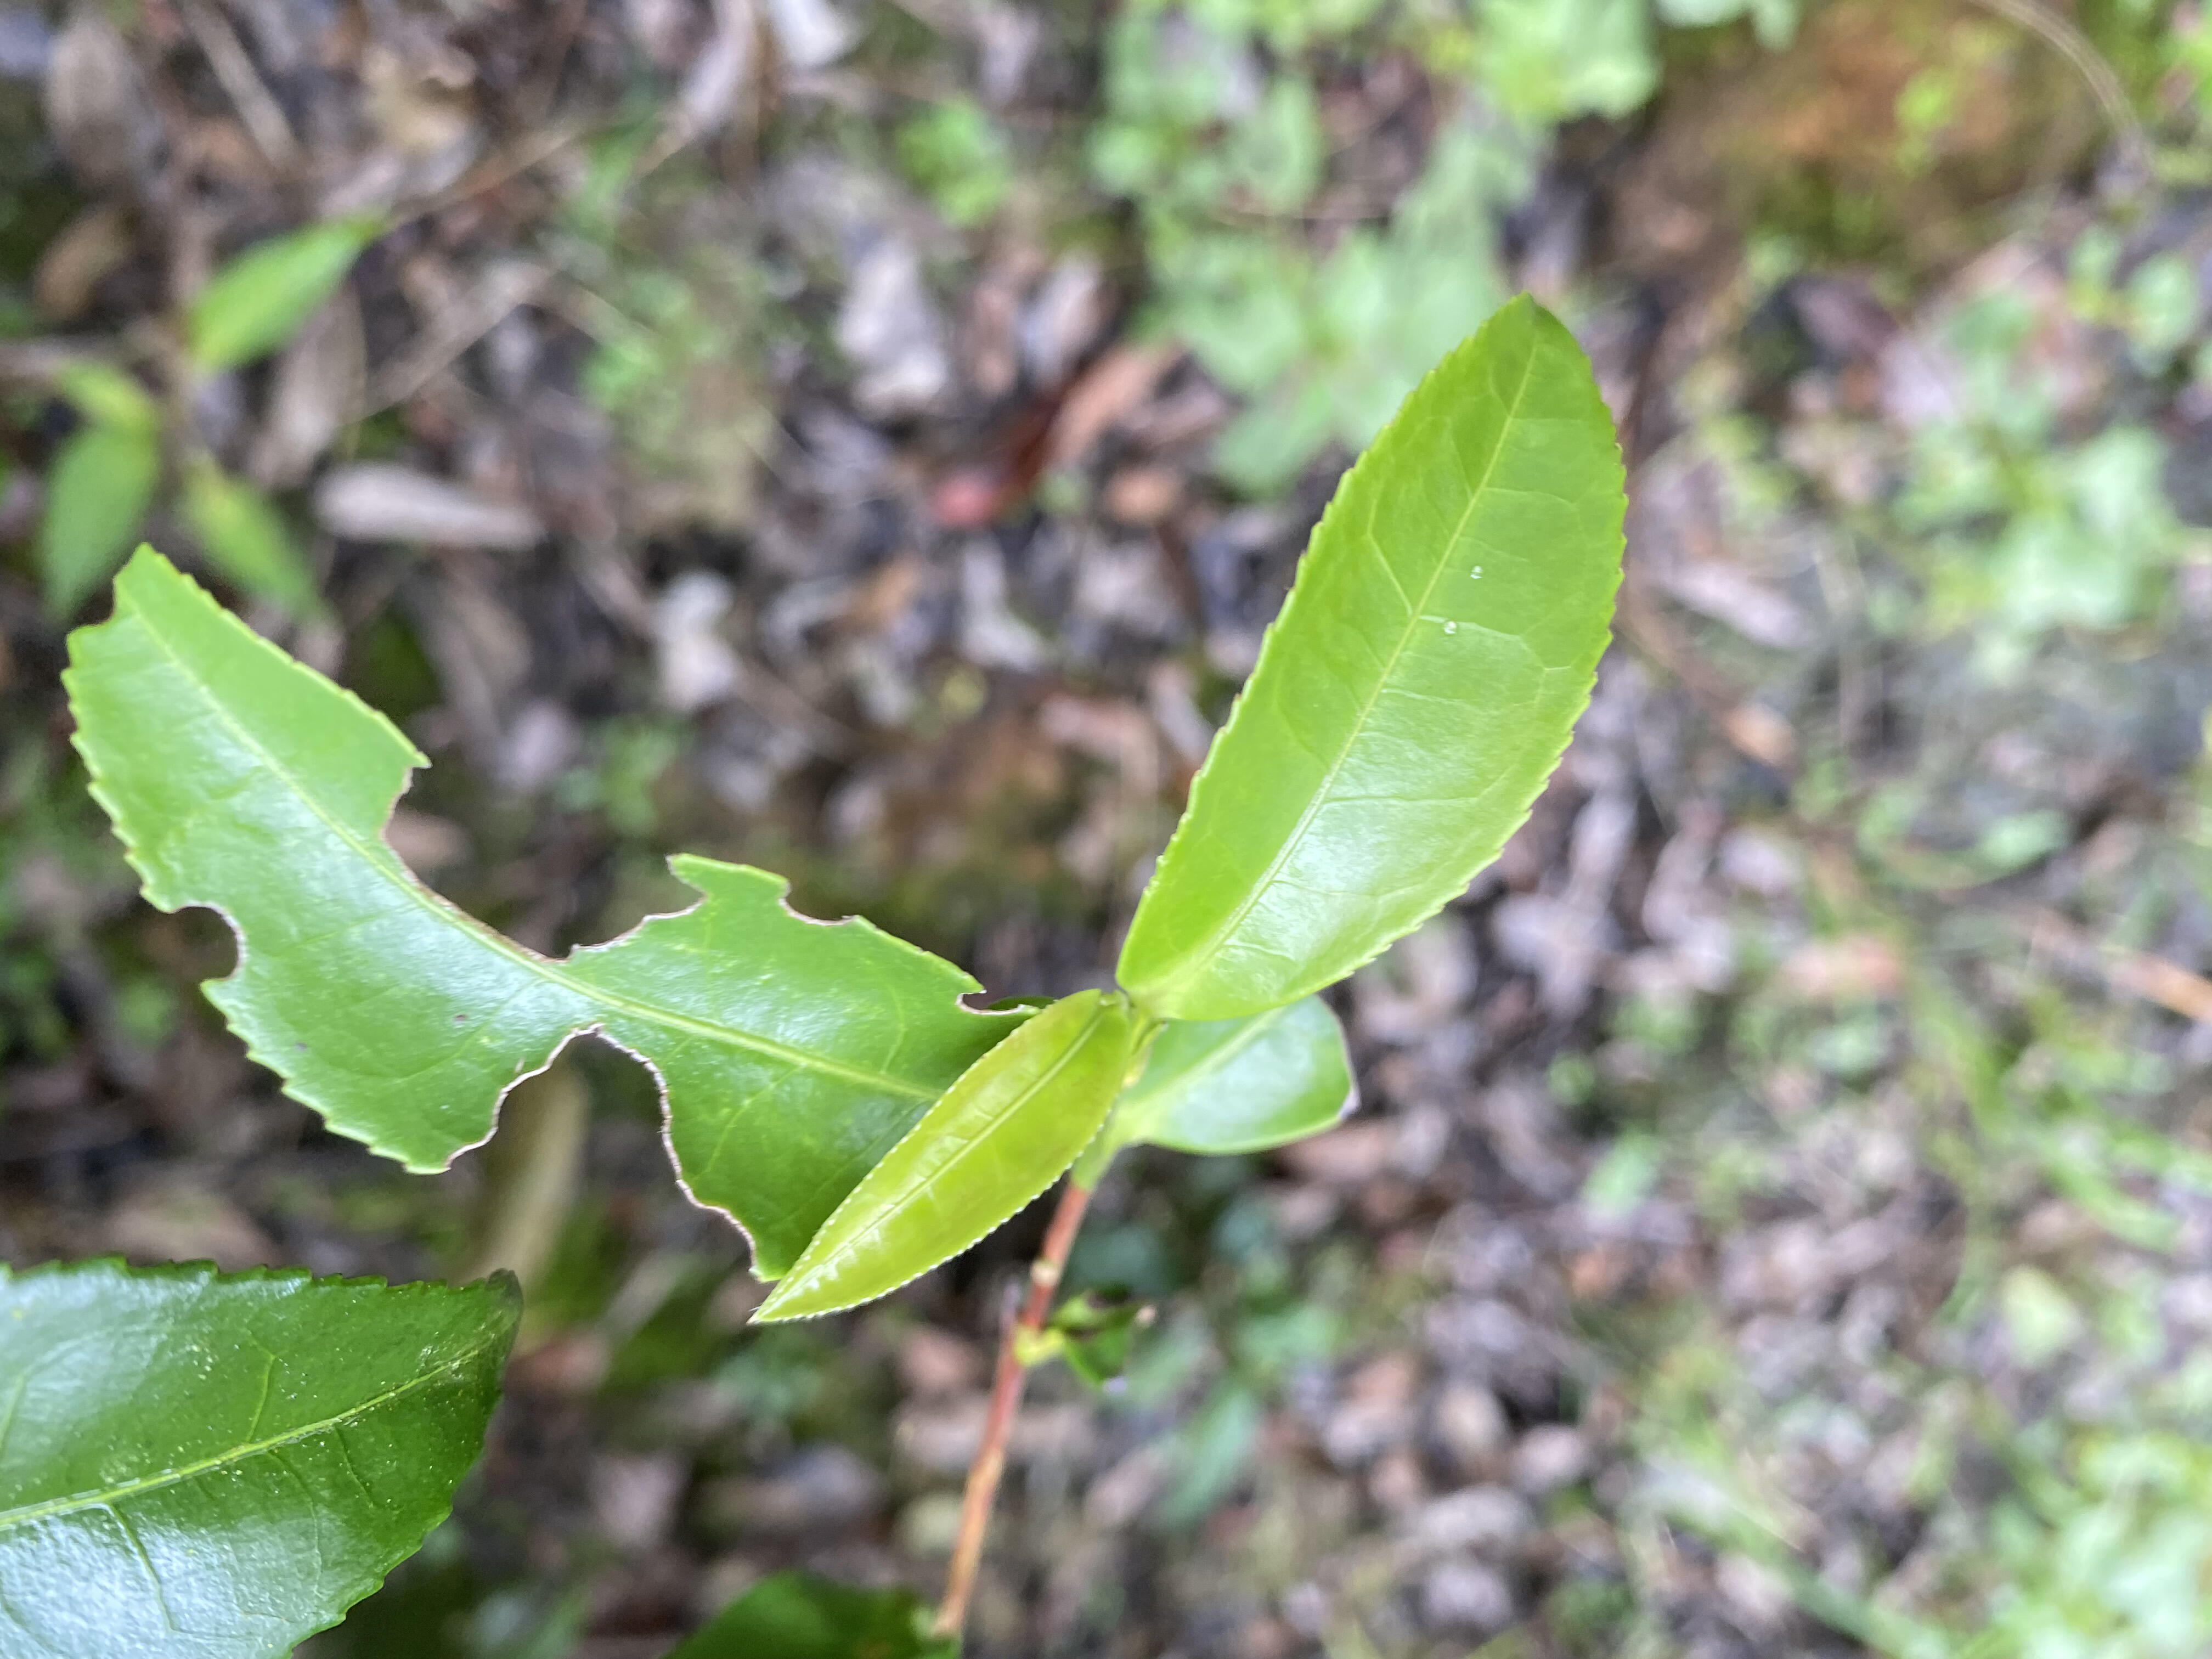chihuo_high: (59, 538, 1031, 1286)
healthy: (1120, 296, 1637, 1021), (0, 1256, 526, 1654), (749, 993, 1129, 1321)
